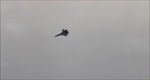maybay_muctieu: (54, 27, 70, 38)
